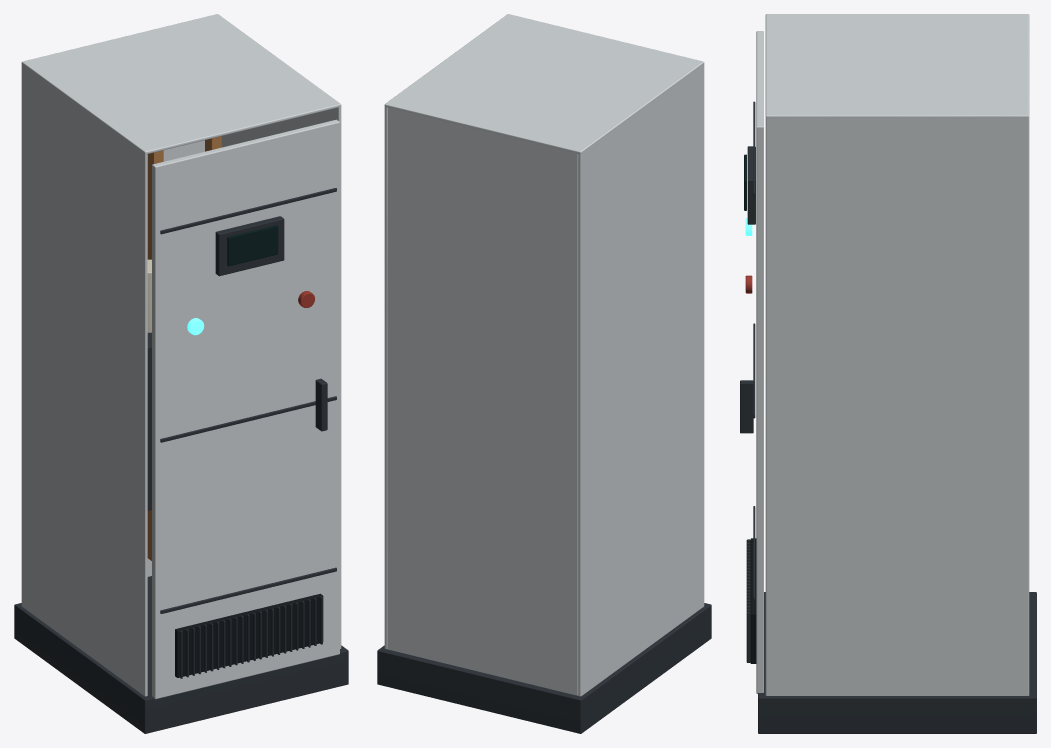
The model's file is Switchgear.glb.
3 renders of one model, left to right at view 1: azimuth 30°, elevation 25°; view 2: azimuth 150°, elevation 25°; view 3: azimuth 270°, elevation 25°, orthographic. The views are drawn at different scales.
Visible parts, largest first — view 1: Enclosure, Door.001, Breaker_and_busbars; view 2: Enclosure; view 3: Enclosure, Door.001.
Part boxes in pixels (x1,y1,x2,y2): Enclosure: (14, 14, 348, 733); Door.001: (152, 119, 339, 699); Breaker_and_busbars: (147, 136, 221, 560); Enclosure: (377, 14, 711, 733); Enclosure: (758, 14, 1036, 733); Door.001: (740, 31, 763, 693).
Bounding box in the file's own units: 0.81 × 2.2 × 0.958.
